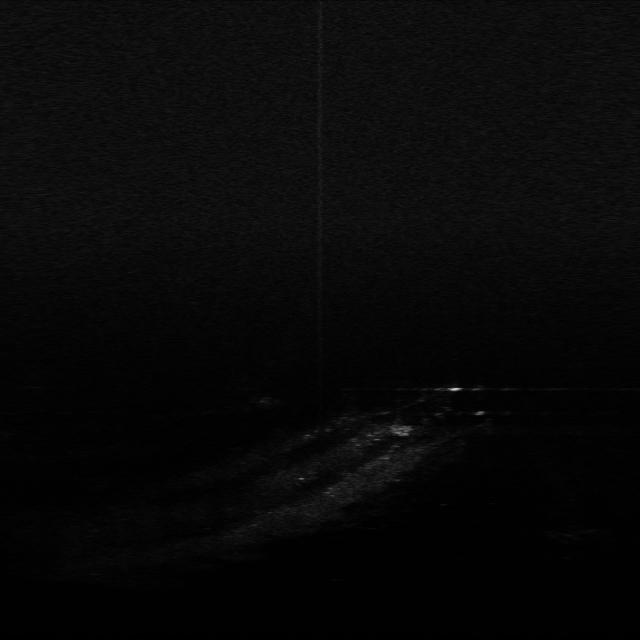rov: (387, 417, 417, 440)
